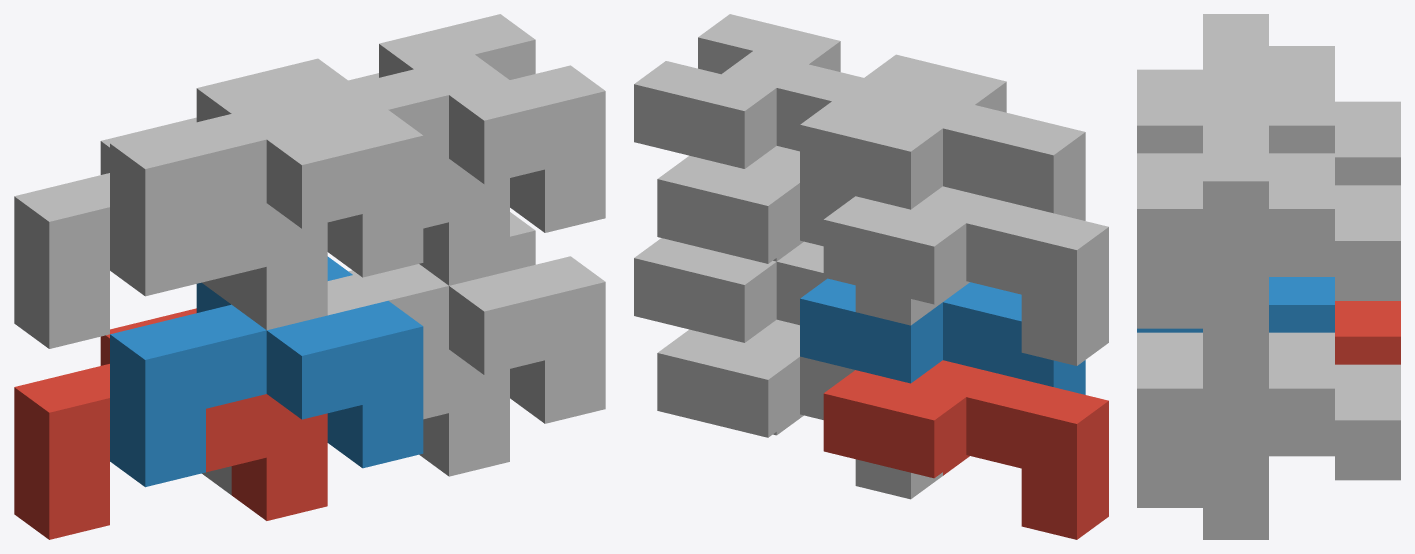
Rendered from tiling.obj.
3 views of the same model, side by side, from view 1: azimuth 30°, elevation 25°; view 2: azimuth 150°, elevation 25°; view 3: azimuth 270°, elevation 25° (orthographic). The views are drawn at different scales.
Visible parts, largest first — view 1: copy_1_domain_4, copy_1_domain_2, copy_1_domain_8, copy_1_domain_3, copy_1_domain_1, copy_1_domain_6, copy_1_domain_7, copy_1_domain_5; view 2: copy_1_domain_3, copy_1_domain_1, copy_1_domain_4, copy_1_domain_8, copy_1_domain_2, copy_1_domain_5, copy_1_domain_7, copy_1_domain_6; view 3: copy_1_domain_8, copy_1_domain_6, copy_1_domain_4, copy_1_domain_5, copy_1_domain_7, copy_1_domain_3, copy_1_domain_1, copy_1_domain_2.
Part boxes in pixels (x1,y1,x2,y2): copy_1_domain_4: (110, 58, 423, 296); copy_1_domain_2: (110, 256, 423, 487); copy_1_domain_8: (293, 14, 605, 232); copy_1_domain_3: (14, 117, 327, 348); copy_1_domain_1: (14, 308, 327, 539); copy_1_domain_6: (327, 212, 605, 423); copy_1_domain_7: (202, 73, 509, 304); copy_1_domain_5: (202, 270, 509, 494); copy_1_domain_3: (823, 186, 1108, 365); copy_1_domain_1: (823, 360, 1108, 539); copy_1_domain_4: (800, 54, 1085, 220); copy_1_domain_8: (634, 14, 918, 168); copy_1_domain_2: (800, 278, 1085, 394); copy_1_domain_5: (657, 319, 942, 499); copy_1_domain_7: (657, 146, 942, 325); copy_1_domain_6: (634, 238, 826, 342); copy_1_domain_8: (1137, 97, 1334, 328); copy_1_domain_6: (1137, 332, 1334, 507); copy_1_domain_4: (1137, 14, 1334, 153); copy_1_domain_5: (1203, 364, 1400, 539); copy_1_domain_7: (1203, 185, 1400, 360); copy_1_domain_3: (1269, 46, 1400, 185); copy_1_domain_1: (1335, 301, 1400, 364); copy_1_domain_2: (1137, 277, 1334, 332).
Bounding box in the file's own units: 8 × 6 × 4.
